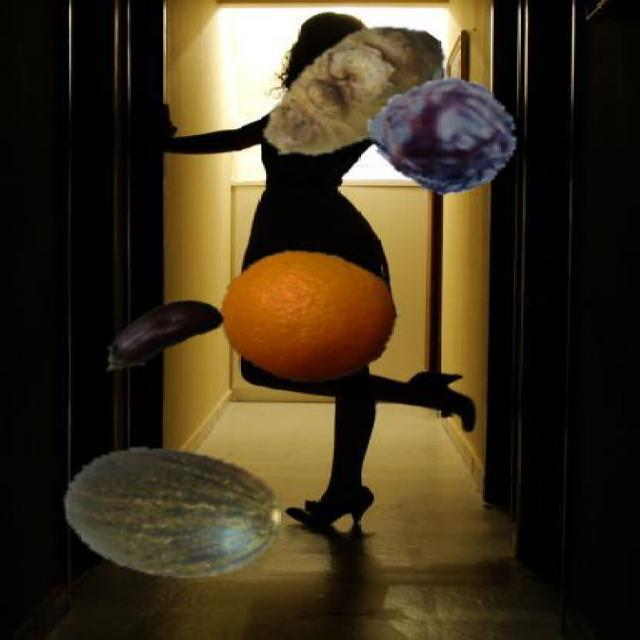Orange: (218, 249, 398, 385)
